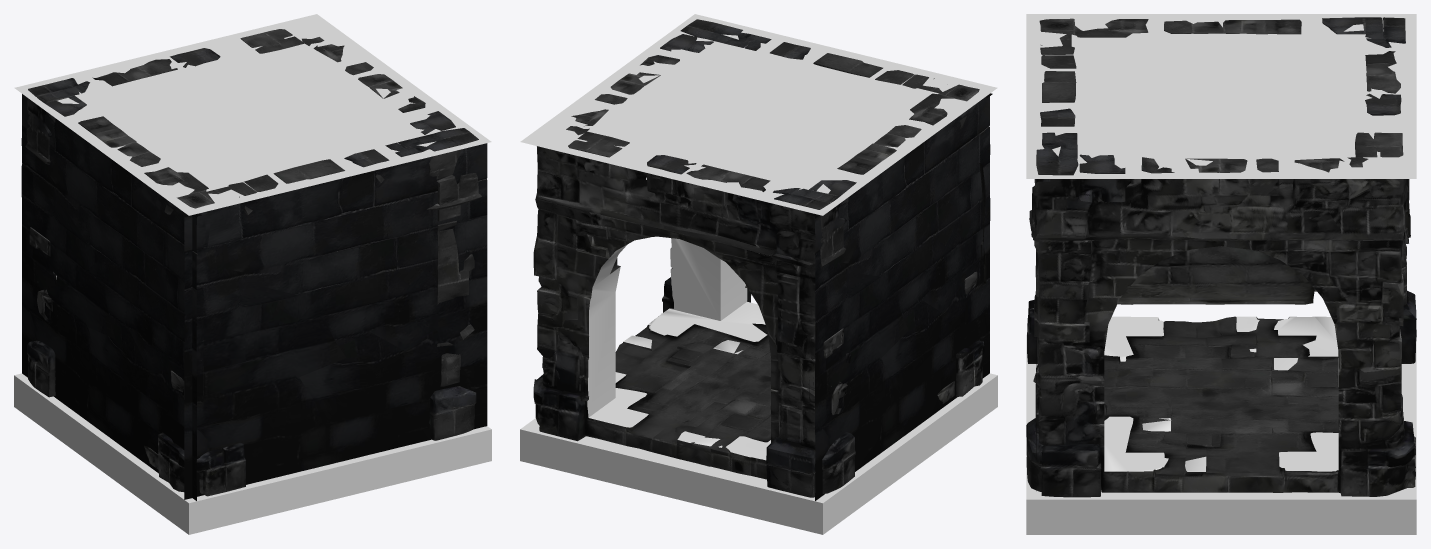
File: module_corner.glb
The picture shows the model from 3 angles, left to right: view 1: azimuth 30°, elevation 25°; view 2: azimuth 150°, elevation 25°; view 3: azimuth 270°, elevation 25°; orthographic projection. The views are drawn at different scales.
Parts seen in each view (by area): view 1: tripo_node_8c5739aa-f84c-4d8b-8e59-f022d221bb8c; view 2: tripo_node_8c5739aa-f84c-4d8b-8e59-f022d221bb8c; view 3: tripo_node_8c5739aa-f84c-4d8b-8e59-f022d221bb8c.
Part boxes in pixels (left/top/right/bottom): tripo_node_8c5739aa-f84c-4d8b-8e59-f022d221bb8c: left=14, top=14, right=491, bottom=534; tripo_node_8c5739aa-f84c-4d8b-8e59-f022d221bb8c: left=520, top=14, right=997, bottom=534; tripo_node_8c5739aa-f84c-4d8b-8e59-f022d221bb8c: left=1026, top=14, right=1416, bottom=534.
Bounding box in the file's own units: 6 × 6.07 × 6.
Materials: 4 (2 with a texture image).
